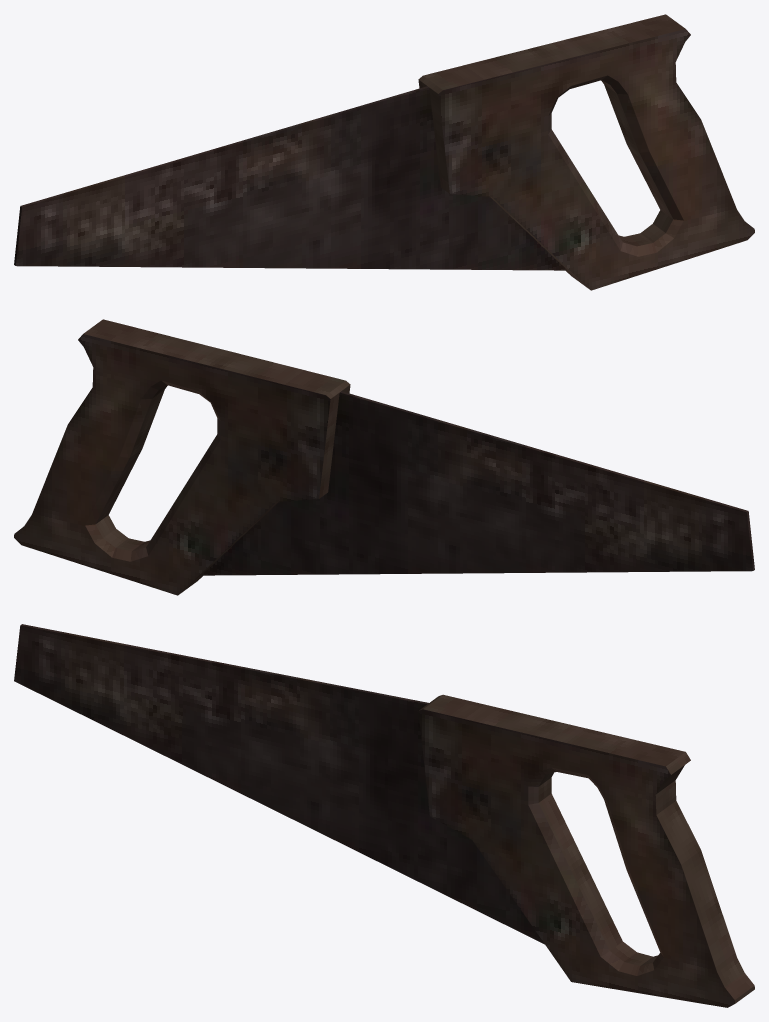
The model's file is shop-saw.glb.
The picture shows the model from 3 angles, top to bottom: view 1: azimuth 30°, elevation 25°; view 2: azimuth 150°, elevation 25°; view 3: azimuth 330°, elevation 25°; orthographic projection.
Visible parts, largest first — view 1: hand_saw_1; view 2: hand_saw_1; view 3: hand_saw_1.
Part boxes in pixels (x1,y1,x2,y2): hand_saw_1: (14,14,754,290); hand_saw_1: (14,319,754,595); hand_saw_1: (14,624,754,1007).
Size of the model in its own units: 0.6965 by 0.2175 by 0.033.
1 material, 1 textured.
